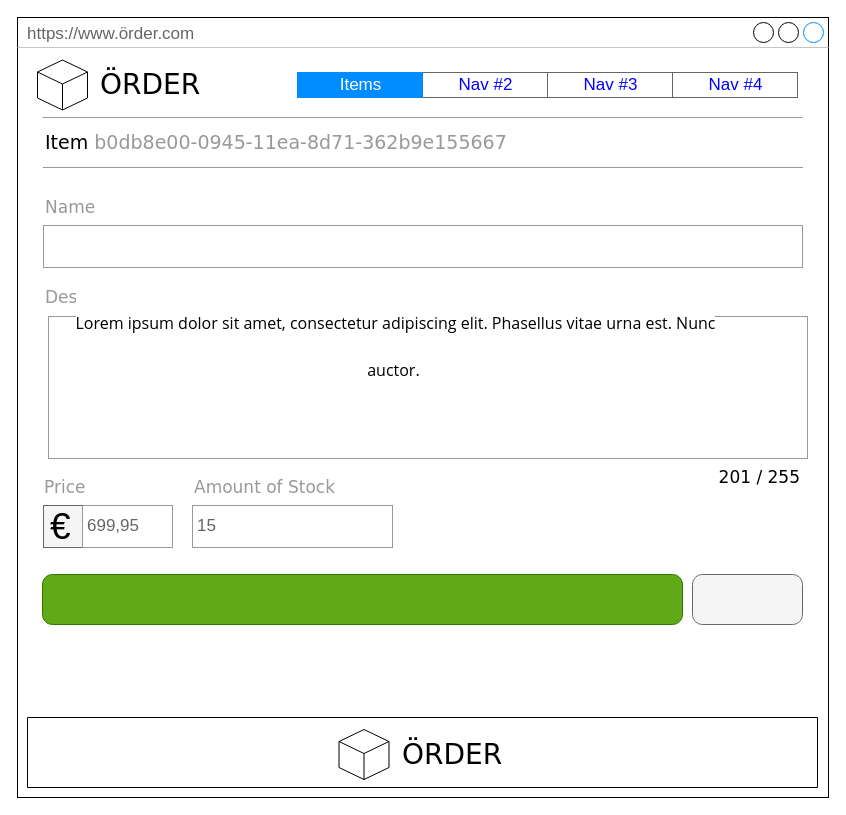
The diagram is 846 pixels wide and 815 high, and some of its shapes have lost their labels. The shapes that lost their labels are listed below. From the top down, each one's box as (x1, y1, x2, y2) in pixels, then its label:
(42, 224, 802, 268): iPhony Delux 7
(42, 574, 682, 624): UPDATE
(692, 574, 802, 624): CANCEL
